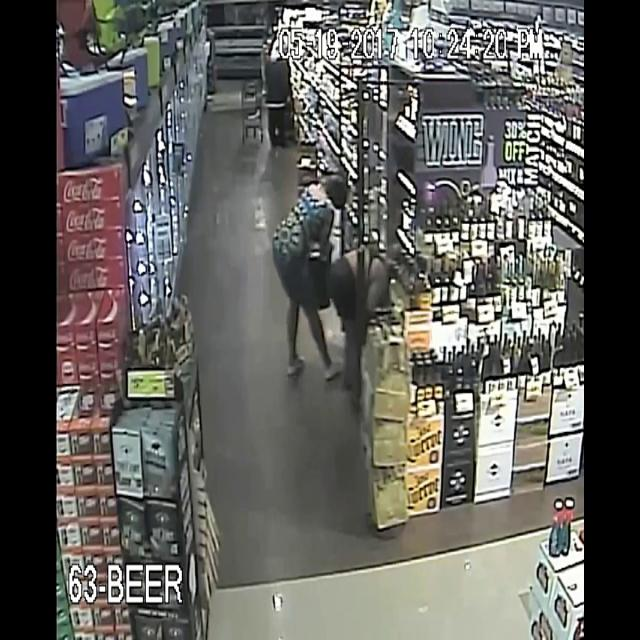normal: (255, 8, 298, 170)
shoplifting: (261, 168, 356, 385), (332, 218, 414, 354)
